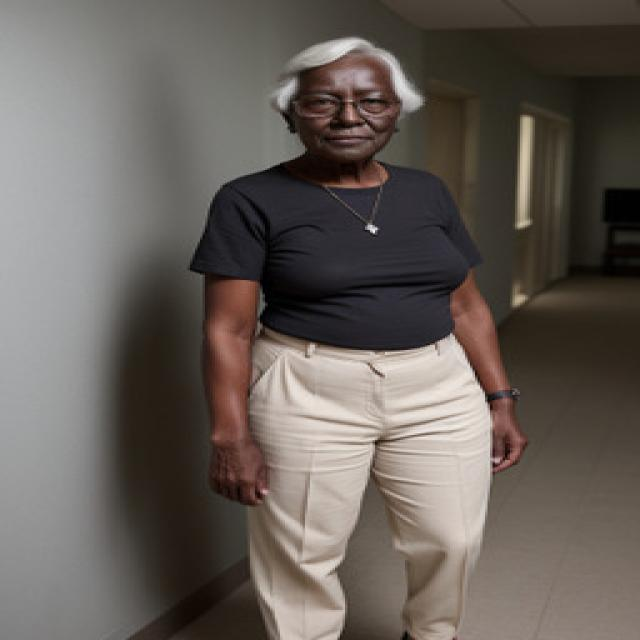Ai human 2: (180, 21, 556, 640)
